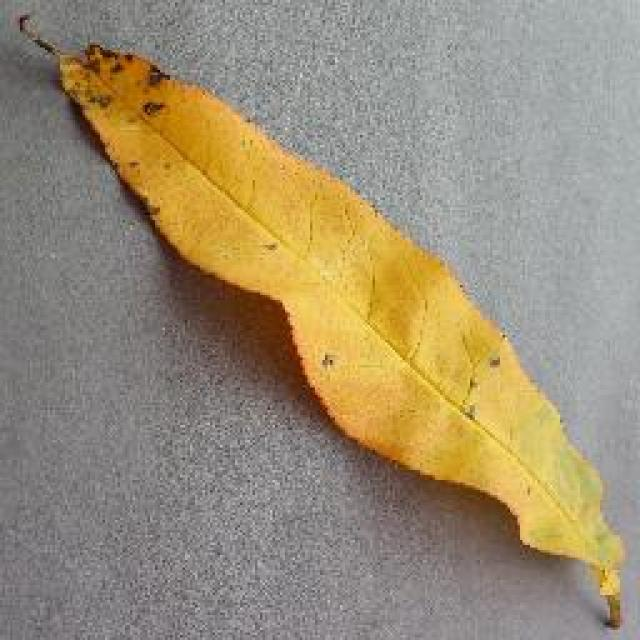Peach_Bacterial_Spot: (58, 10, 237, 187)
